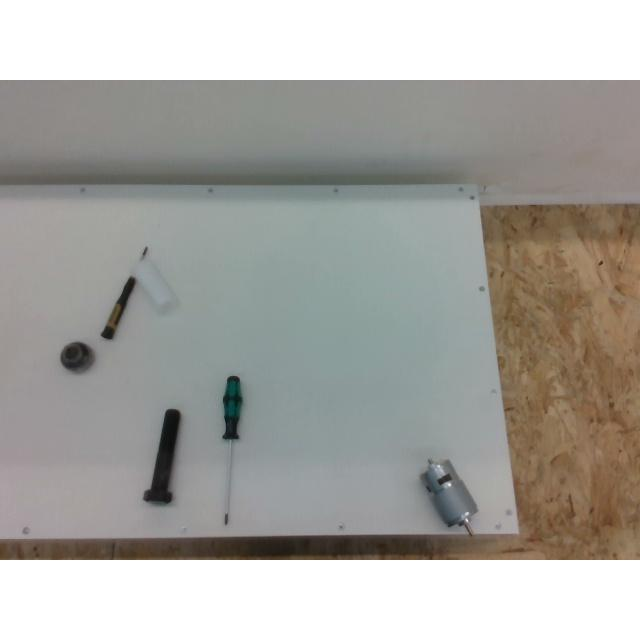Bearing2: (60, 342, 94, 372)
M20_100: (144, 409, 180, 503)
Motor2: (421, 458, 477, 534)
Screwdriver: (222, 376, 242, 524)
Spacer: (130, 256, 178, 312)
